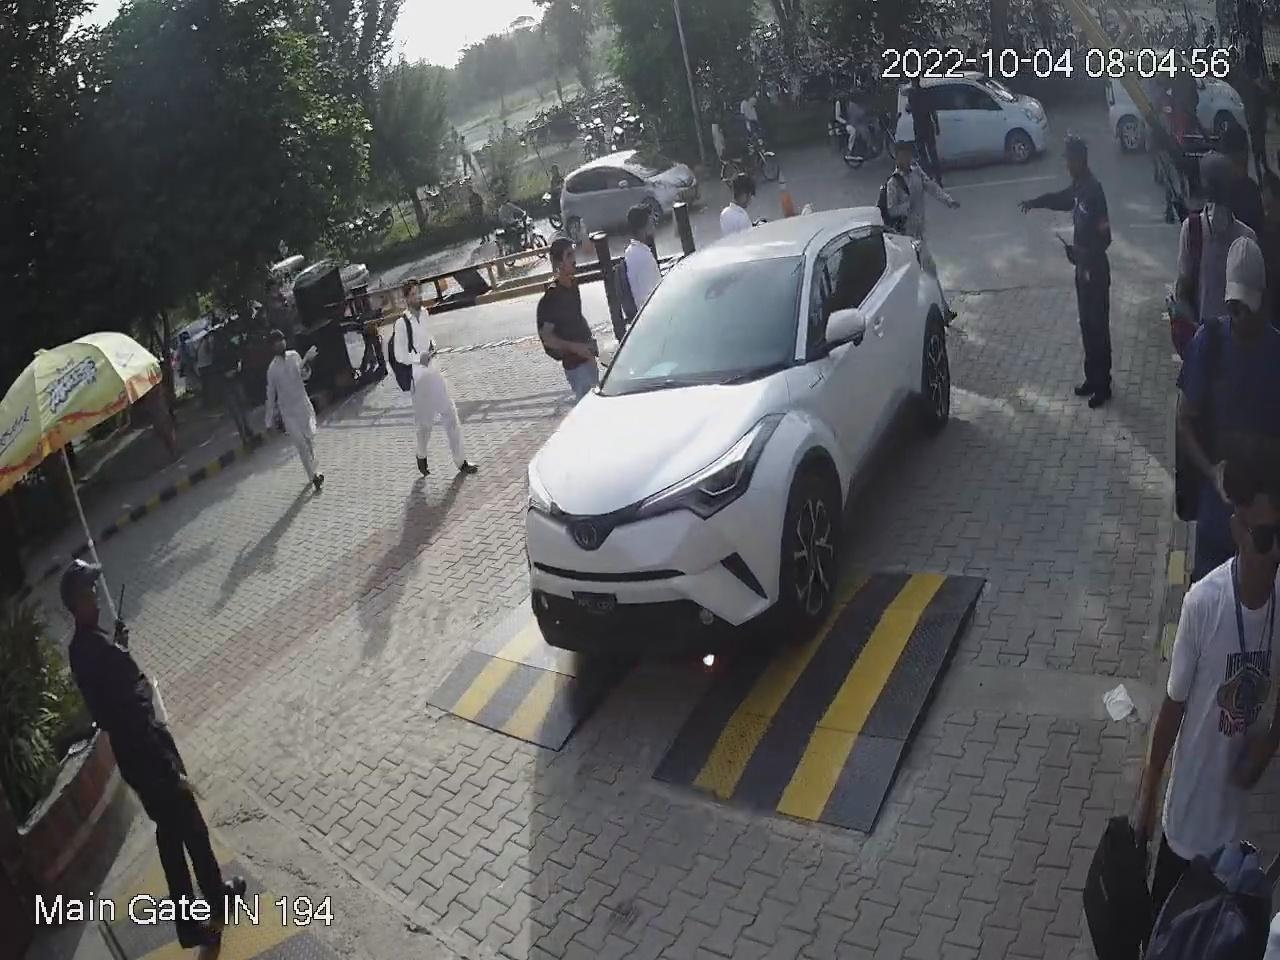windshield: (596, 240, 813, 387)
